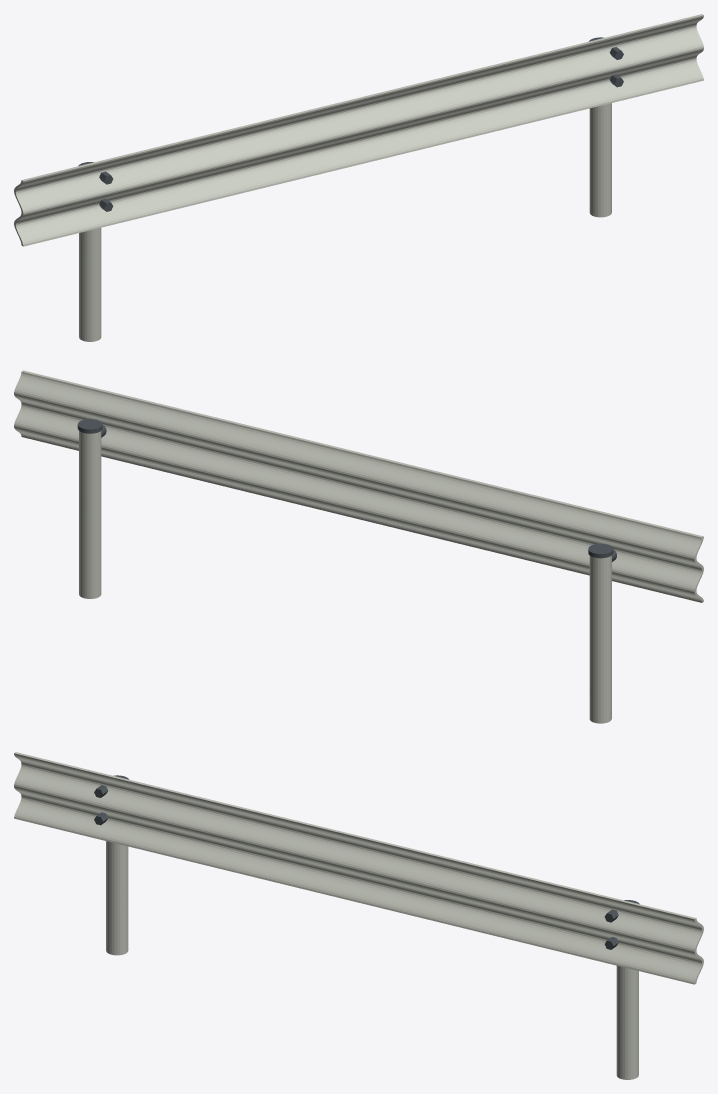
The model's file is Mountain_Guardrail_12.obj.
3 views of the same model, one above another, from view 1: azimuth 30°, elevation 25°; view 2: azimuth 150°, elevation 25°; view 3: azimuth 330°, elevation 25° (orthographic).
Parts seen in each view (by area): view 1: Mountain_Guardrail_12; view 2: Mountain_Guardrail_12; view 3: Mountain_Guardrail_12.
Part boxes in pixels (box(x1,y1,x2,y2)): Mountain_Guardrail_12: box(14, 14, 703, 341); Mountain_Guardrail_12: box(14, 370, 703, 723); Mountain_Guardrail_12: box(14, 752, 703, 1079).
Bounding box in the file's own units: 12 × 3.2 × 0.76.
2 materials, 1 textured.
